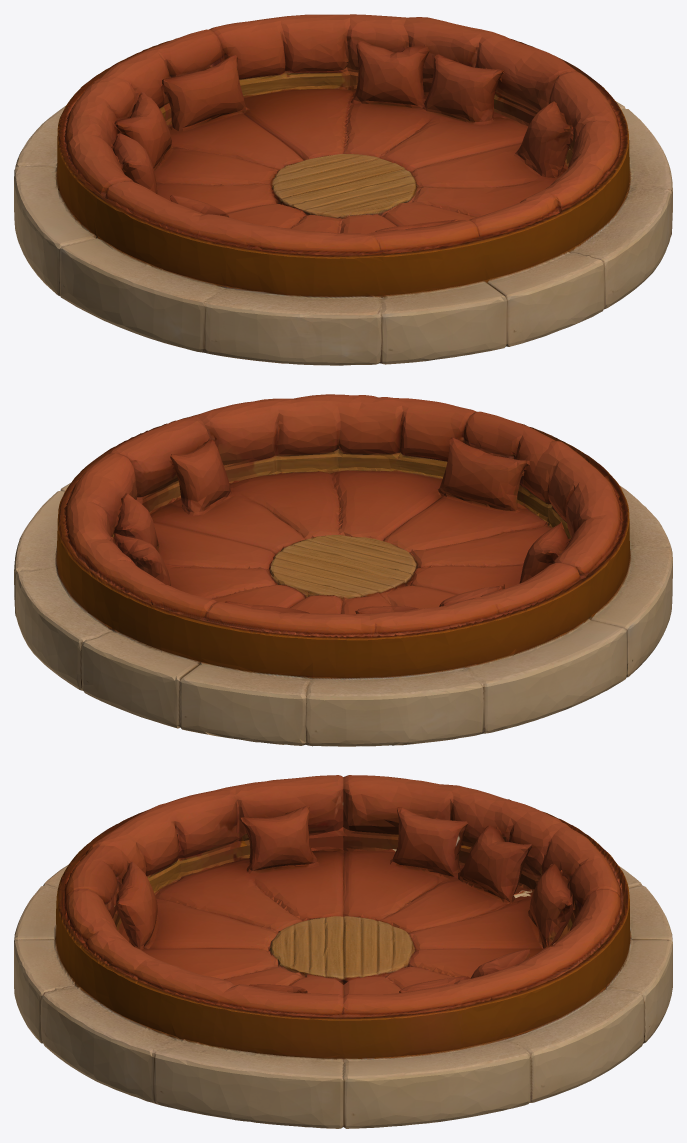
The model's file is room-07-majlis-pad.glb.
3 renders of one model, top to bottom at view 1: azimuth 30°, elevation 25°; view 2: azimuth 150°, elevation 25°; view 3: azimuth 270°, elevation 25°, orthographic.
Parts seen in each view (by area): view 1: textured_mesh.obj; view 2: textured_mesh.obj; view 3: textured_mesh.obj.
Part boxes in pixels (bbox=[...]): textured_mesh.obj: bbox=[14, 14, 672, 365]; textured_mesh.obj: bbox=[14, 394, 672, 746]; textured_mesh.obj: bbox=[14, 775, 672, 1128].
Size of the model in its own units: 2.85 by 0.5 by 2.85.
1 material, 1 textured.
